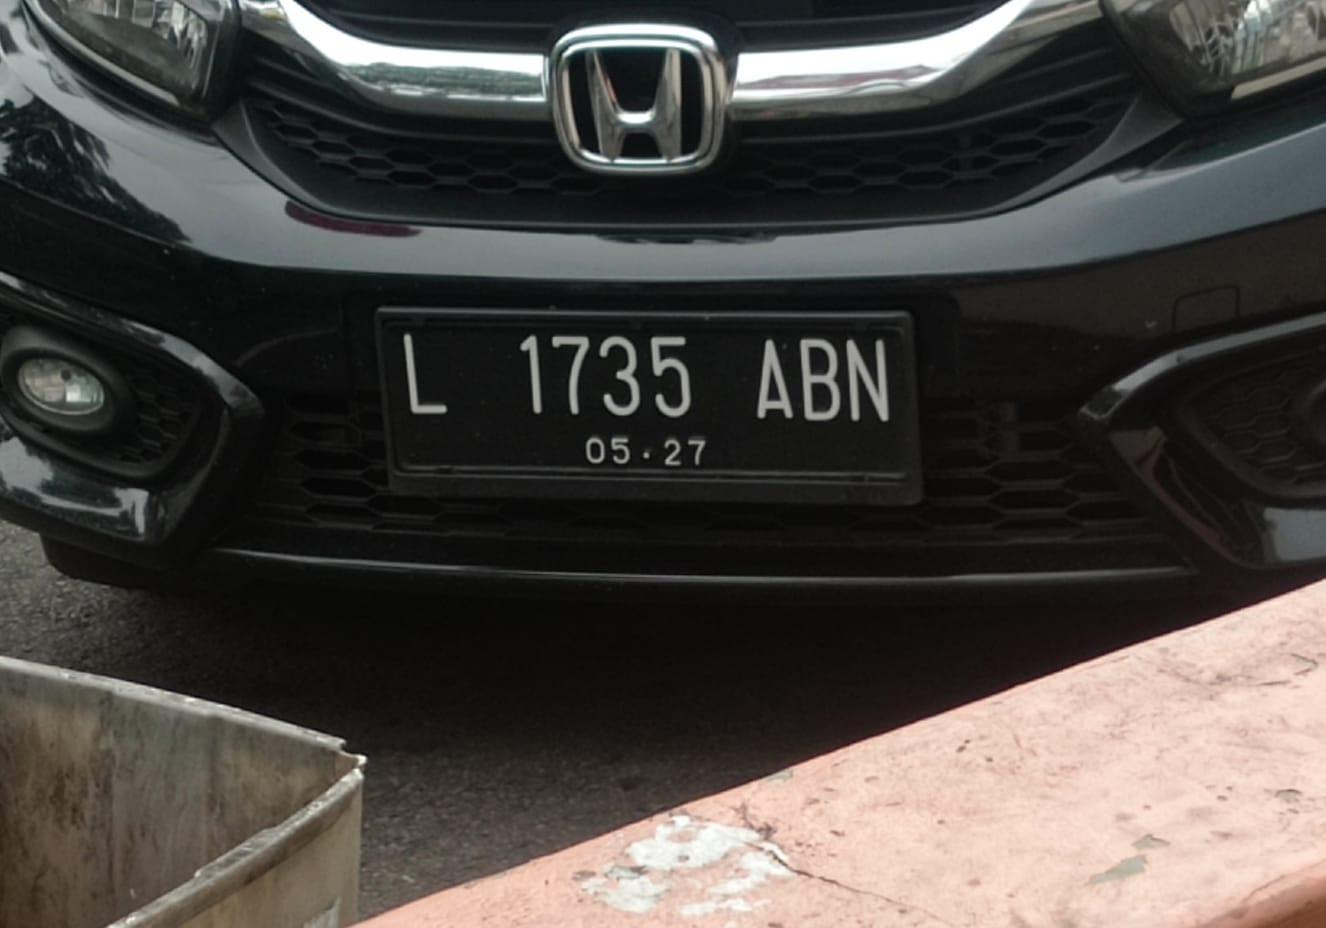plat: (376, 308, 922, 505)
